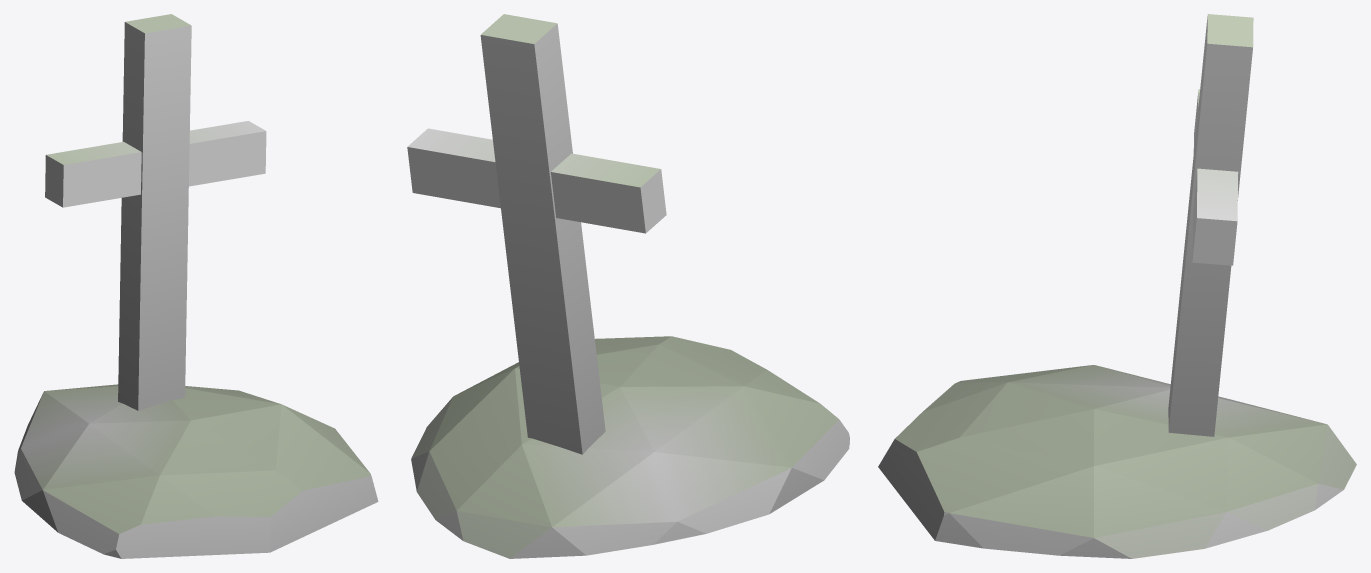
The model's file is grave_cross.glb.
3 views of the same model, side by side, from view 1: azimuth 30°, elevation 25°; view 2: azimuth 150°, elevation 25°; view 3: azimuth 270°, elevation 25° (orthographic). The views are drawn at different scales.
Visible parts, largest first — view 1: grave_cross; view 2: grave_cross; view 3: grave_cross.
Part boxes in pixels (x1,y1,x2,y2): grave_cross: (14, 14, 378, 558); grave_cross: (407, 14, 849, 558); grave_cross: (878, 14, 1356, 558).
Bounding box in the file's own units: 0.7821 × 1 × 0.9373.
